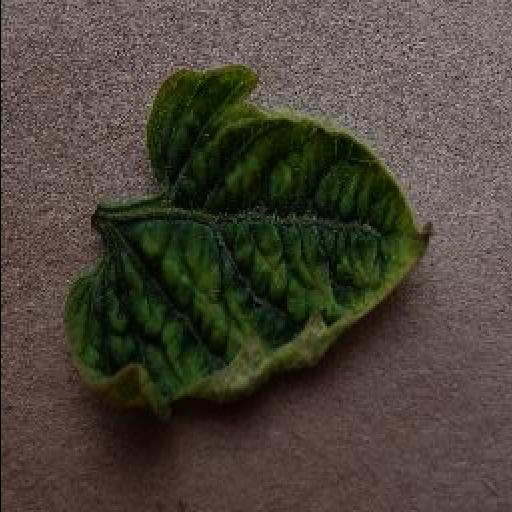disease_tomato: (60, 64, 434, 416)
